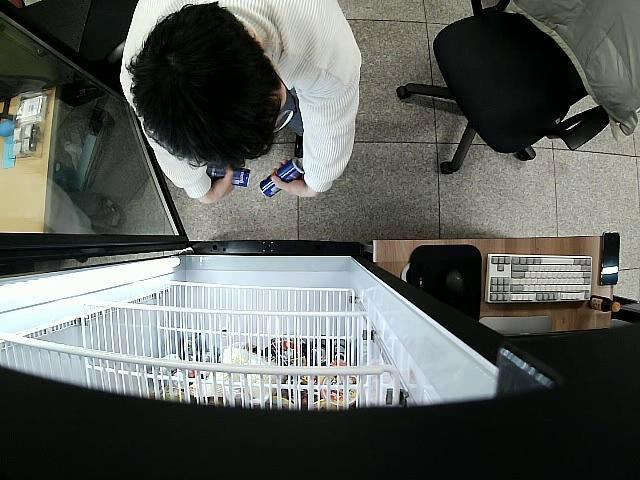16_hot6: (258, 158, 306, 200), (207, 164, 252, 187)
